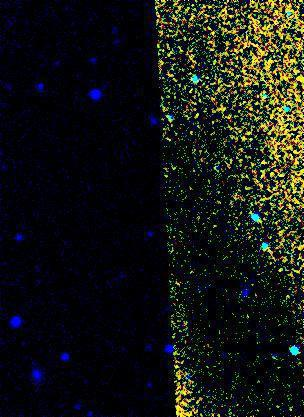star: (286, 65, 304, 95)
